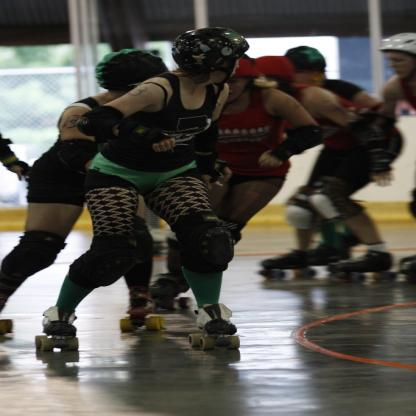Helmet: (171, 27, 250, 89), (92, 49, 170, 91), (376, 32, 416, 75)
